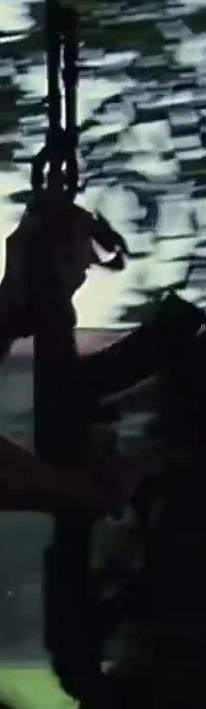gun: (0, 1, 206, 709)
